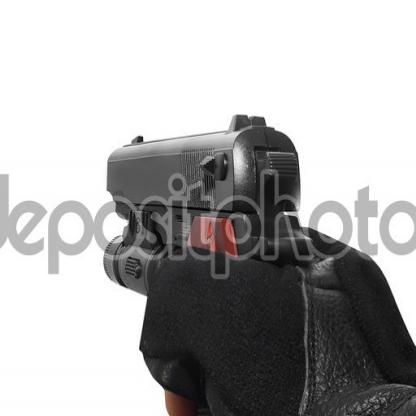gun: (106, 114, 300, 415)
